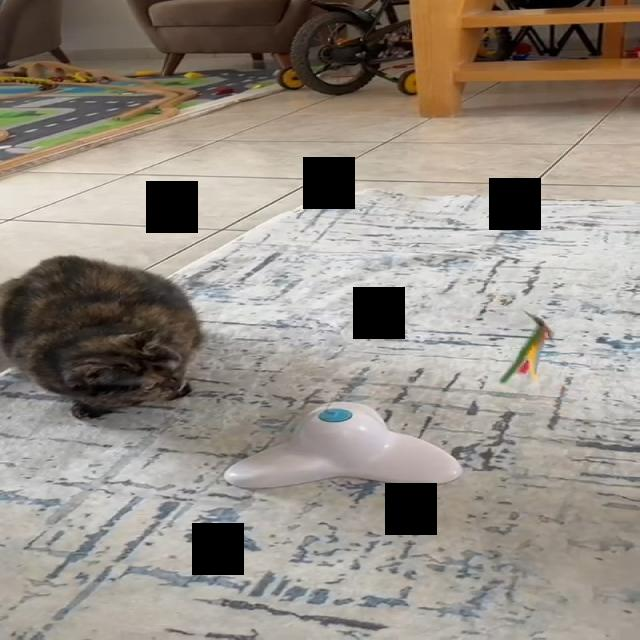authorized: (0, 254, 204, 421)
